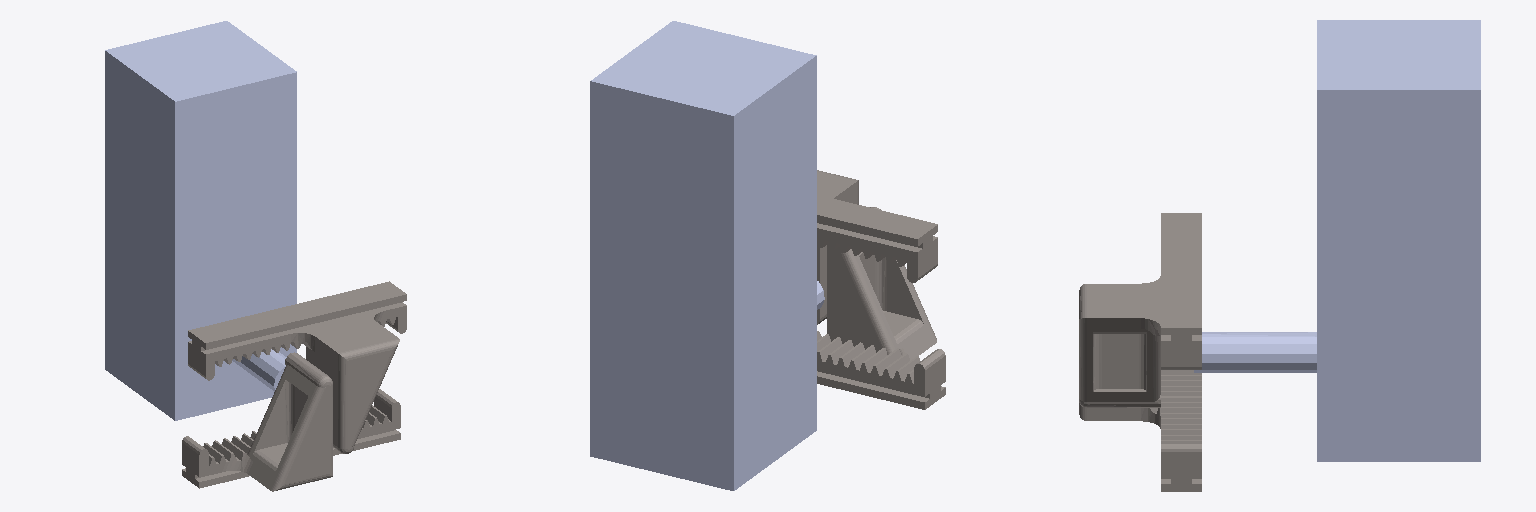
URDF robot description (efectorfinal):
<?xml version="1.0" encoding="utf-8"?>
<!-- This URDF was automatically created by SolidWorks to URDF Exporter! Originally created by [author] ([email redacted]) 
     Commit Version: 1.6.0-1-g15f4949  Build Version: 1.6.7594.29634
     For more information, please see http://wiki.ros.org/sw_urdf_exporter -->
<robot
  name="efectorfinal">
  <link
    name="base_link">
    <inertial>
      <origin
        xyz="-2.20198089757877E-17 0.0474920624530793 0.0295646249597823"
        rpy="0 0 0" />
      <mass
        value="0.162356194490192" />
      <inertia
        ixx="0.000159792357924796"
        ixy="1.85863485064781E-22"
        ixz="-3.12354534970082E-22"
        iyy="0.000156785919290839"
        iyz="-2.43810022521945E-06"
        izz="4.57025577317508E-05" />
    </inertial>
    <visual>
      <origin
        xyz="0 0 0"
        rpy="0 0 0" />
      <geometry>
        <mesh
          filename="package://efectorfinal/meshes/base_link.STL" />
      </geometry>
      <material
        name="">
        <color
          rgba="0.792156862745098 0.819607843137255 0.933333333333333 1" />
      </material>
    </visual>
    <collision>
      <origin
        xyz="0 0 0"
        rpy="0 0 0" />
      <geometry>
        <mesh
          filename="package://efectorfinal/meshes/base_link.STL" />
      </geometry>
    </collision>
  </link>
  <link
    name="first_Link">
    <inertial>
      <origin
        xyz="0.00544675809815641 -5.79206069234475E-18 -1.67153584412282E-18"
        rpy="0 0 0" />
      <mass
        value="0.00618813972610106" />
      <inertia
        ixx="7.31511462021311E-07"
        ixy="-5.1966016748925E-23"
        ixz="-8.25763220740865E-23"
        iyy="4.10659781832087E-07"
        iyz="-1.22422730657848E-22"
        izz="4.10659781832087E-07" />
    </inertial>
    <visual>
      <origin
        xyz="0 0 0"
        rpy="0 0 0" />
      <geometry>
        <mesh
          filename="package://efectorfinal/meshes/first_Link.STL" />
      </geometry>
      <material
        name="">
        <color
          rgba="0.643137254901961 0.615686274509804 0.6 1" />
      </material>
    </visual>
    <collision>
      <origin
        xyz="0 0 0"
        rpy="0 0 0" />
      <geometry>
        <mesh
          filename="package://efectorfinal/meshes/first_Link.STL" />
      </geometry>
    </collision>
  </link>
  <joint
    name="first_joint"
    type="revolute">
    <origin
      xyz="0 0 0"
      rpy="1.7003 0 -1.5708" />
    <parent
      link="base_link" />
    <child
      link="first_Link" />
    <axis
      xyz="-1 0 0" />
    <limit
      lower="0"
      upper="0"
      effort="0"
      velocity="0" />
  </joint>
  <link
    name="second_link">
    <inertial>
      <origin
        xyz="0.0265211929009696 0.0068777834733057 0.00330694539119235"
        rpy="0 0 0" />
      <mass
        value="0.0103535967073896" />
      <inertia
        ixx="1.6581225771421E-06"
        ixy="4.73469728497251E-08"
        ixz="2.33763865274835E-07"
        iyy="2.88673763683143E-06"
        iyz="-4.28743016977691E-07"
        izz="2.89730942578623E-06" />
    </inertial>
    <visual>
      <origin
        xyz="0 0 0"
        rpy="0 0 0" />
      <geometry>
        <mesh
          filename="package://efectorfinal/meshes/second_link.STL" />
      </geometry>
      <material
        name="">
        <color
          rgba="0.643137254901961 0.615686274509804 0.6 1" />
      </material>
    </visual>
    <collision>
      <origin
        xyz="0 0 0"
        rpy="0 0 0" />
      <geometry>
        <mesh
          filename="package://efectorfinal/meshes/second_link.STL" />
      </geometry>
    </collision>
  </link>
  <joint
    name="second_joint"
    type="continuous">
    <origin
      xyz="0.01 -0.0148310357596693 0.0332408501719503"
      rpy="-1.5707963267949 1.44128079438183 -1.5707963267949" />
    <parent
      link="first_Link" />
    <child
      link="second_link" />
    <axis
      xyz="1 0 0" />
  </joint>
  <link
    name="third_link">
    <inertial>
      <origin
        xyz="0.0265211929010353 0.00687778347389024 0.0033069453916871"
        rpy="0 0 0" />
      <mass
        value="0.0103535967081163" />
      <inertia
        ixx="1.65812257734969E-06"
        ixy="4.73469728057163E-08"
        ixz="2.33763865266828E-07"
        iyy="2.88673763690313E-06"
        iyz="-4.28743017010508E-07"
        izz="2.89730942595185E-06" />
    </inertial>
    <visual>
      <origin
        xyz="0 0 0"
        rpy="0 0 0" />
      <geometry>
        <mesh
          filename="package://efectorfinal/meshes/third_link.STL" />
      </geometry>
      <material
        name="">
        <color
          rgba="0.643137254901961 0.615686274509804 0.6 1" />
      </material>
    </visual>
    <collision>
      <origin
        xyz="0 0 0"
        rpy="0 0 0" />
      <geometry>
        <mesh
          filename="package://efectorfinal/meshes/third_link.STL" />
      </geometry>
    </collision>
  </link>
  <joint
    name="third_joint"
    type="continuous">
    <origin
      xyz="0.01 0.0148375966439305 -0.0331904766116383"
      rpy="1.5707963267949 -1.44128079438183 1.5707963267949" />
    <parent
      link="first_Link" />
    <child
      link="third_link" />
    <axis
      xyz="1 0 0" />
  </joint>
</robot>

--- Facts derived from the render (not from the file) ---
Views: 3 orthographic renders of the robot side by side, from view 1: azimuth 30°, elevation 25°; view 2: azimuth 150°, elevation 25°; view 3: azimuth 270°, elevation 25°.
Robot: efectorfinal — 4 links, 3 joints (1 revolute, 2 continuous); root link base_link; default pose: all joints at 0.
Links seen in each view (by area): view 1: base_link, third_link, second_link; view 2: base_link, second_link, third_link; view 3: base_link, third_link, second_link.
Link boxes in pixels (x1=…): base_link: x1=105, y1=21, x2=296, y2=420; third_link: x1=188, y1=281, x2=406, y2=453; second_link: x1=182, y1=352, x2=400, y2=491; base_link: x1=590, y1=21, x2=824, y2=490; second_link: x1=817, y1=207, x2=945, y2=409; third_link: x1=817, y1=170, x2=937, y2=324; base_link: x1=1194, y1=20, x2=1480, y2=461; third_link: x1=1079, y1=213, x2=1201, y2=407; second_link: x1=1079, y1=370, x2=1201, y2=491.
Bounding box of the posed robot: 0.068 × 0.098 × 0.1025 m (x, y, z).
Meshes: 4 distinct files referenced, 3 mesh visuals loaded (3 binary STL); not drawn: 1 (reference not matched to a file when rendering).